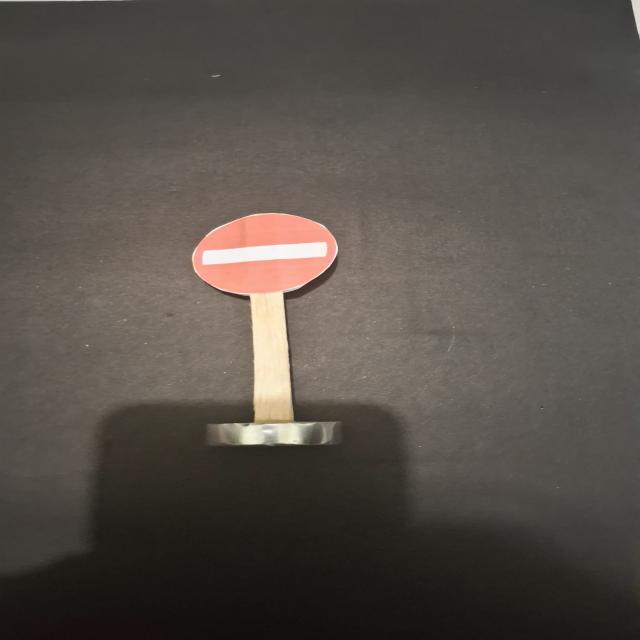Dilarang Masuk: (194, 213, 338, 292)
